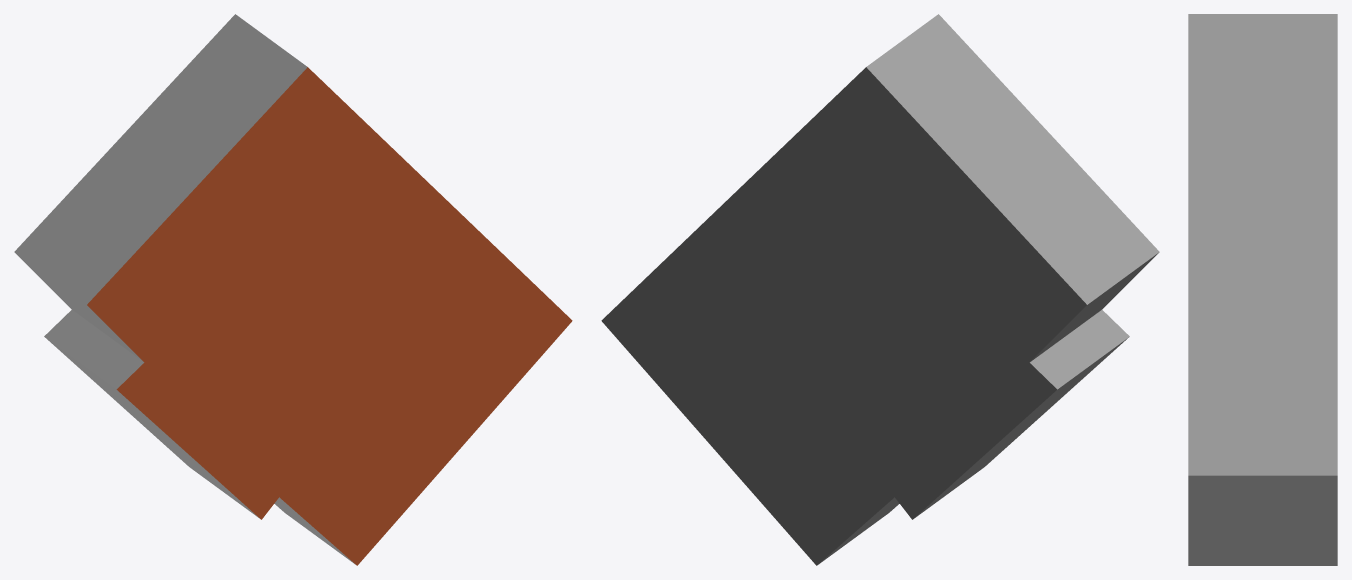
The model's file is construction_0646_assumed_A_Casa_h6m.obj.
The picture shows the model from 3 angles, left to right: view 1: azimuth 30°, elevation 25°; view 2: azimuth 150°, elevation 25°; view 3: azimuth 270°, elevation 25°; orthographic projection. The views are drawn at different scales.
Visible parts, largest first — view 1: construction_0646_assumed_A_Casa; view 2: construction_0646_assumed_A_Casa; view 3: construction_0646_assumed_A_Casa.
Boxes of the visible parts, box(x1,y1,x2,y2) form: construction_0646_assumed_A_Casa: box(14, 14, 572, 565); construction_0646_assumed_A_Casa: box(601, 14, 1159, 565); construction_0646_assumed_A_Casa: box(1188, 14, 1337, 565).
Bounding box in the file's own units: 23.22 × 23.33 × 6.
